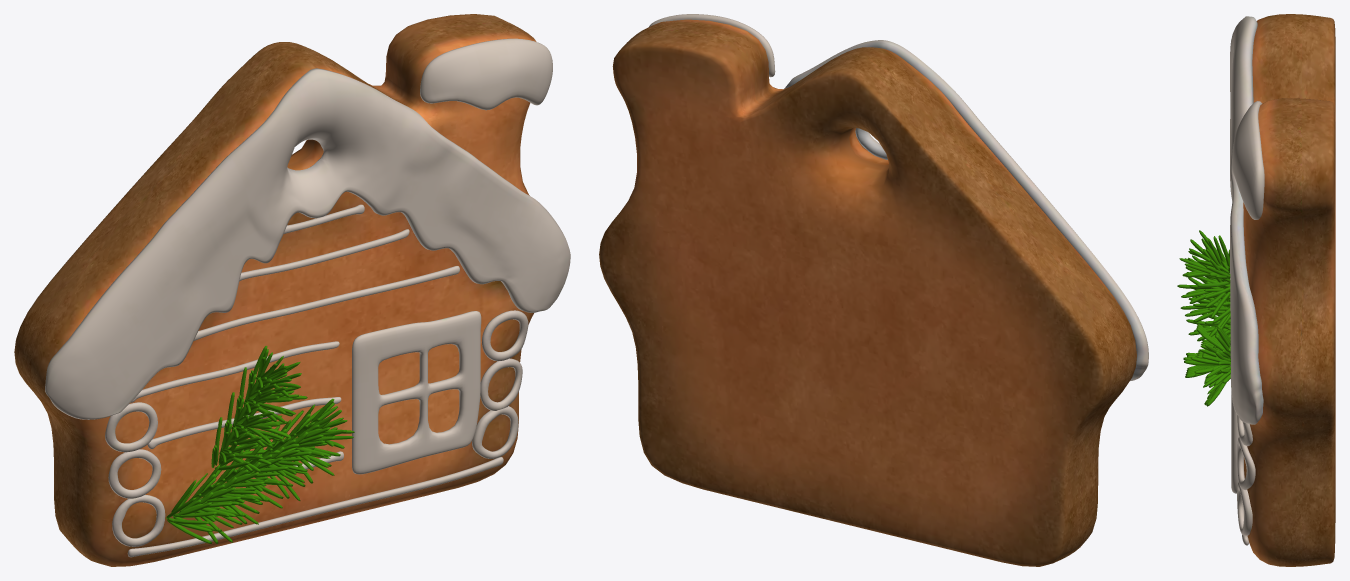
File: ginger-house.glb
3 renders of one model, left to right at view 1: azimuth 30°, elevation 25°; view 2: azimuth 150°, elevation 25°; view 3: azimuth 270°, elevation 25°, orthographic.
Parts seen in each view (by area): view 1: Gingerbread house; view 2: Gingerbread house; view 3: Gingerbread house.
Part boxes in pixels (x1=…): Gingerbread house: x1=14, y1=14, x2=570, y2=566; Gingerbread house: x1=599, y1=14, x2=1148, y2=566; Gingerbread house: x1=1177, y1=14, x2=1335, y2=566.
Bounding box in the file's own units: 0.0921 × 0.078 × 0.0241.
Materials: 1 (1 with a texture image).
